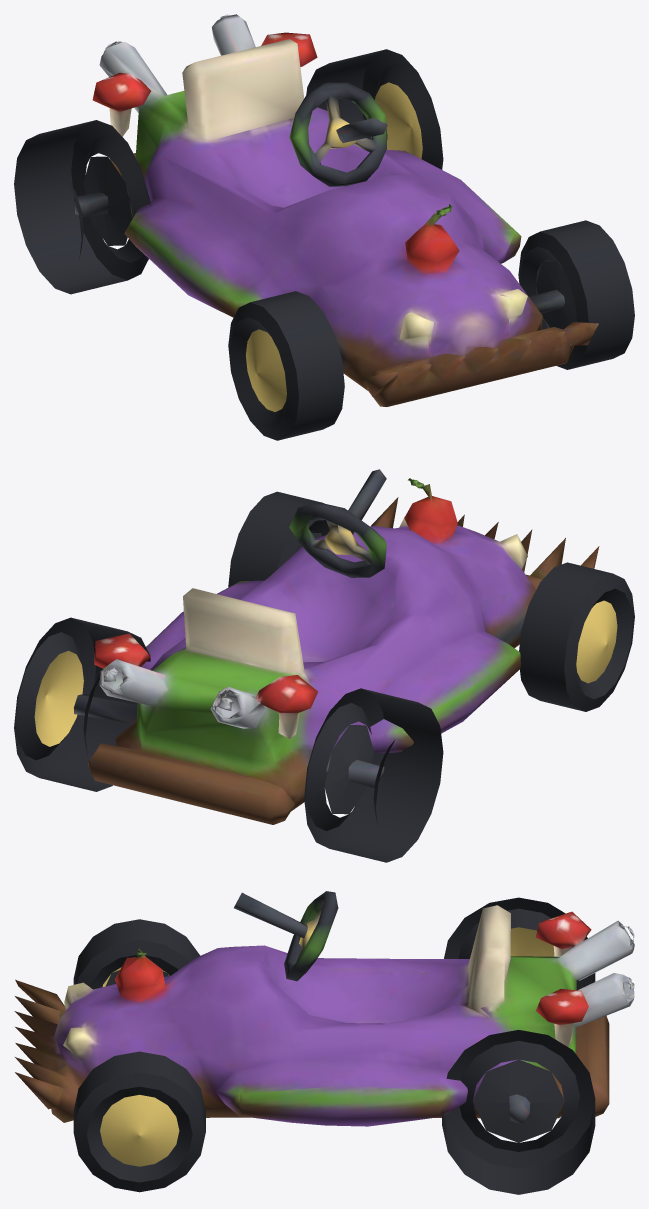
The model's file is kart.hedgehog.lod1.glb.
3 renders of one model, top to bottom at view 1: azimuth 30°, elevation 25°; view 2: azimuth 150°, elevation 25°; view 3: azimuth 270°, elevation 25°, orthographic. The views are drawn at different scales.
Parts seen in each view (by area): view 1: body, wheel_rr, wheel_fr, wheel_fl, wheel_rl, steering; view 2: body, wheel_rr, wheel_fr, wheel_rl, wheel_fl, steering; view 3: body, wheel_rl, wheel_fl, wheel_fr, wheel_rr, steering.
Boxes of the visible parts, left/top/right/bottom form: body: left=75, top=14, right=598, bottom=406; wheel_rr: left=14, top=120, right=150, bottom=294; wheel_fr: left=228, top=291, right=344, bottom=440; wheel_fl: left=518, top=220, right=634, bottom=369; wheel_rl: left=306, top=49, right=443, bottom=169; steering: left=289, top=82, right=387, bottom=186; body: left=74, top=469, right=599, bottom=824; wheel_rr: left=304, top=688, right=443, bottom=862; wheel_fr: left=519, top=562, right=634, bottom=711; wheel_rl: left=14, top=617, right=150, bottom=791; wheel_fl: left=228, top=491, right=329, bottom=587; steering: left=289, top=503, right=386, bottom=577; body: left=14, top=892, right=634, bottom=1126; wheel_rl: left=442, top=1030, right=595, bottom=1194; wheel_fl: left=73, top=1051, right=205, bottom=1192; wheel_fr: left=73, top=919, right=200, bottom=989; wheel_rr: left=444, top=897, right=595, bottom=990; steering: left=284, top=891, right=338, bottom=981.
Bounding box in the file's own units: 1.31 × 0.814 × 2.06.
Materials: 3 (1 with a texture image).
